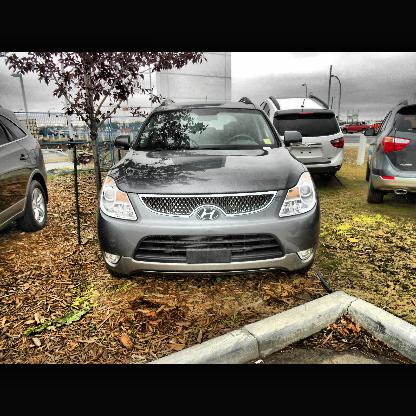Hyundai Veracruz SUV 2012: (101, 98, 326, 282)
